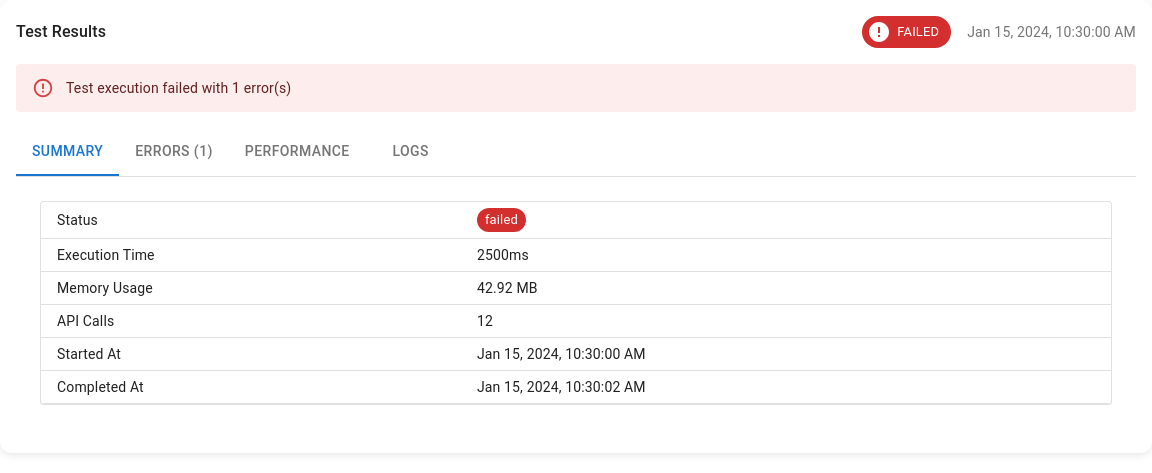
Test: TestResultDisplay › expands error details when clicked
Click the tab "Errors (1)" at (174,152), box [119,128,229,176]
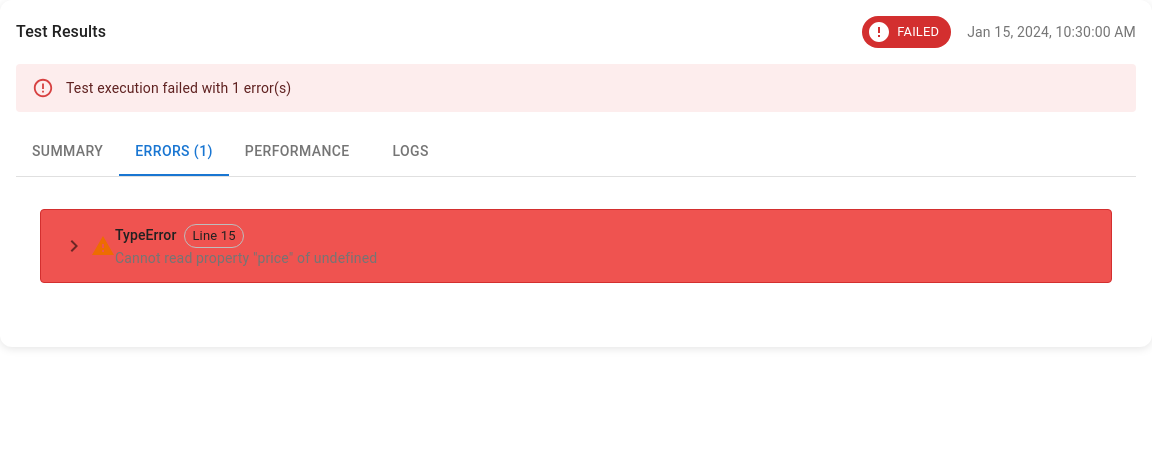
Expected: the heading "TypeError" is shown, [115,225,176,247]
Expected: the text "Cannot read property \"price\" of undefined" is shown, [115,250,377,266]
